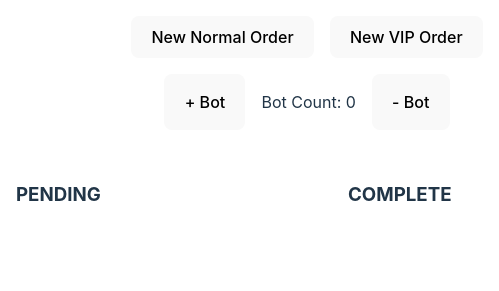
Test: McDonald's Order Controller › Main UI › adds a new normal order and a VIP order to the PENDING area
Click the button "New Normal Order" at (222, 37), box left=131, top=16, right=314, bottom=58
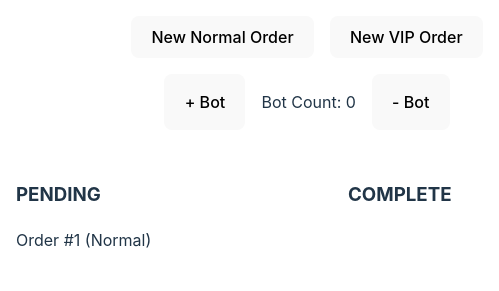
Click the button "New VIP Order" at (406, 37), box left=330, top=16, right=483, bottom=58
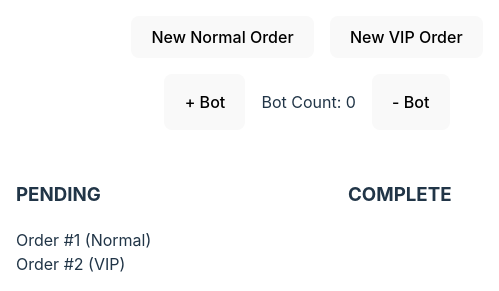
Now the text "Order #1 (Normal)" is shown, box left=16, top=230, right=151, bottom=250
Now the text "Order #2 (VIP)" is shown, box left=16, top=254, right=125, bottom=274
